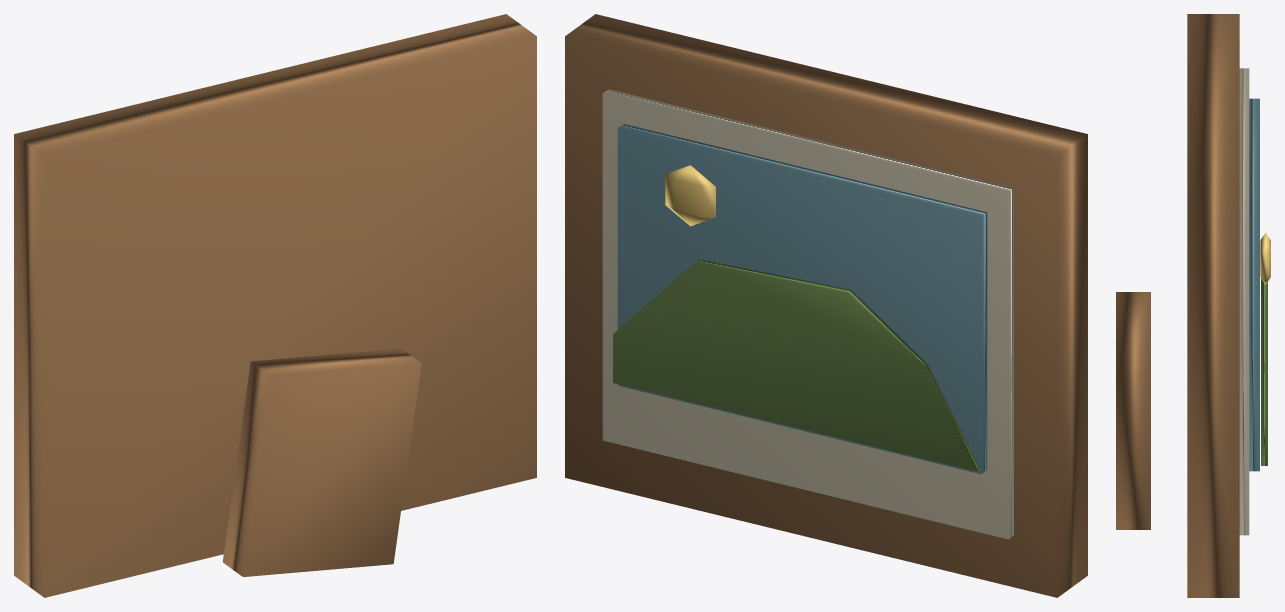
Rendered from quest_photo_frame_low.glb.
The picture shows the model from 3 angles, left to right: view 1: azimuth 30°, elevation 25°; view 2: azimuth 150°, elevation 25°; view 3: azimuth 270°, elevation 25°; orthographic projection. The views are drawn at different scales.
Bounding box in the file's own units: 0.42 × 0.3688 × 0.1335.
